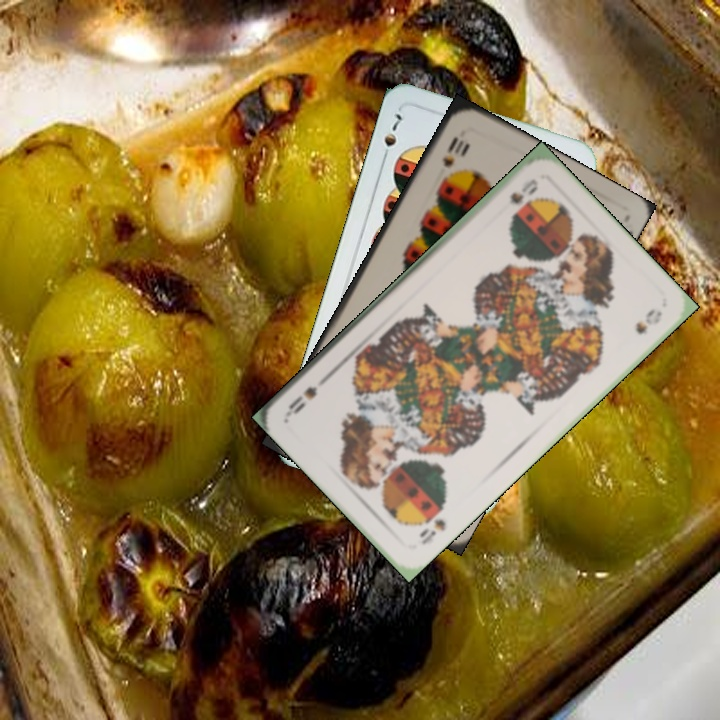S10: (438, 132, 466, 170)
S7: (378, 106, 405, 164)
SO: (505, 174, 541, 208), (415, 514, 449, 547)
